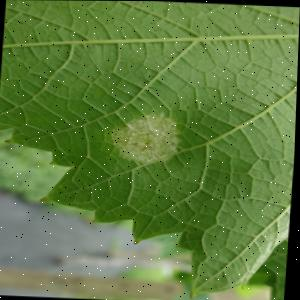Folha: (0, 0, 300, 300)
Fungo: (109, 110, 185, 165)
